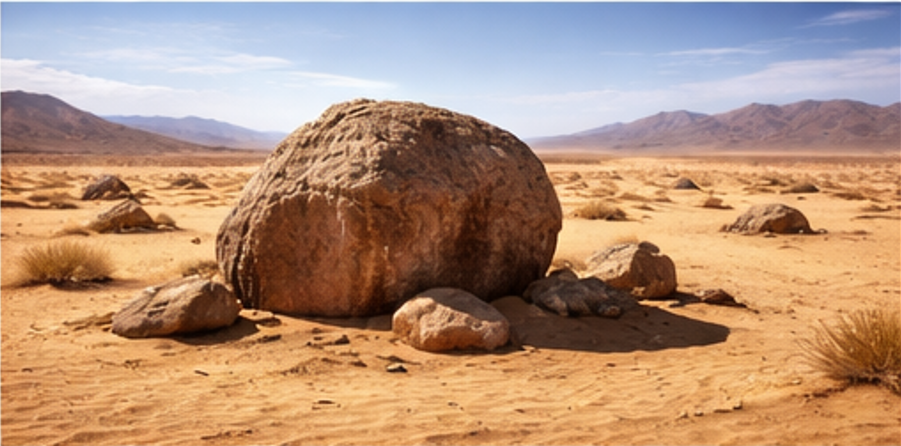rocks: (217, 100, 560, 315), (112, 275, 239, 337), (391, 288, 508, 351), (524, 269, 636, 316), (587, 242, 675, 297), (721, 204, 811, 232), (84, 199, 155, 232), (80, 175, 131, 199), (674, 177, 699, 189)
